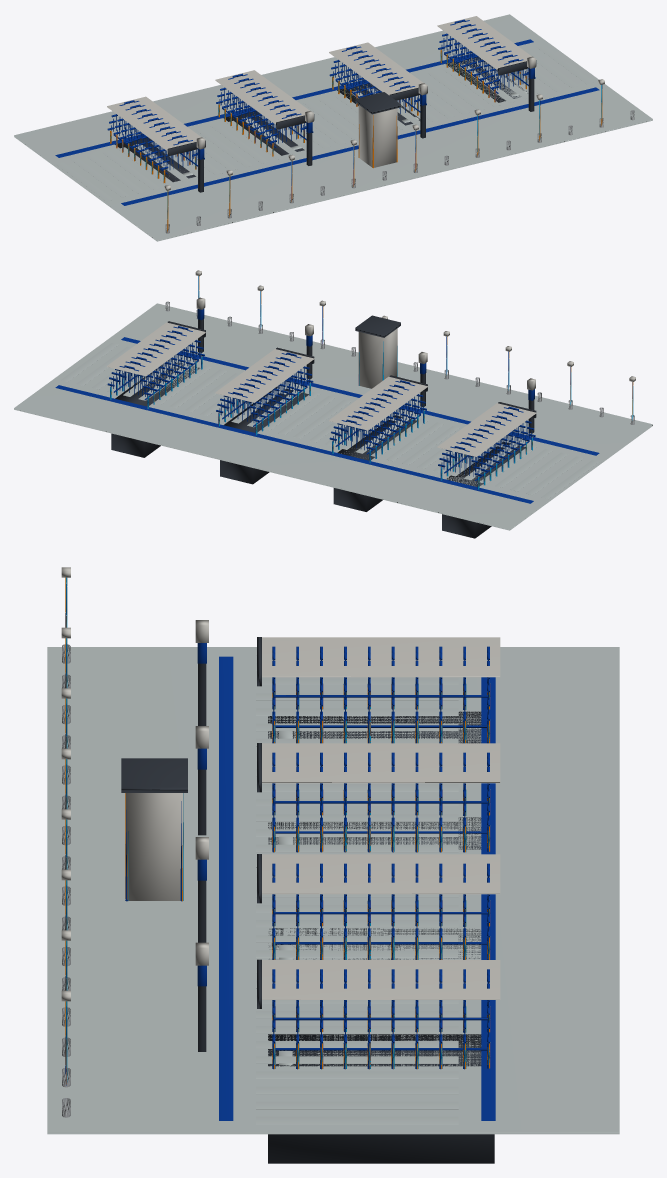
3 renders of one model, top to bottom at view 1: azimuth 30°, elevation 25°; view 2: azimuth 150°, elevation 25°; view 3: azimuth 270°, elevation 25°, orthographic. The views are drawn at different scales.
Visible parts, largest first — view 1: subway_sidewalk_pavement, subway_entrance_canopies, subway_stairs_and_escalator, subway_elevator_tower, subway_pole_signs; view 2: subway_sidewalk_pavement, subway_entrance_canopies, subway_stairs_and_escalator, subway_elevator_tower, subway_pole_signs; view 3: subway_sidewalk_pavement, subway_entrance_canopies, subway_stairs_and_escalator, subway_elevator_tower, subway_pole_signs.
Part boxes in pixels (box(x1,y1,x2,y2)): subway_sidewalk_pavement: box(14, 14, 652, 241); subway_entrance_canopies: box(107, 16, 536, 182); subway_stairs_and_escalator: box(113, 54, 528, 182); subway_elevator_tower: box(355, 92, 400, 168); subway_pole_signs: box(196, 56, 535, 192); subway_sidewalk_pavement: box(14, 270, 652, 530); subway_entrance_canopies: box(107, 321, 536, 489); subway_stairs_and_escalator: box(111, 360, 529, 538); subway_elevator_tower: box(355, 315, 400, 388); subway_pole_signs: box(196, 297, 535, 433); subway_sidewalk_pavement: box(47, 567, 619, 1134); subway_entrance_canopies: box(257, 637, 500, 1069); subway_stairs_and_escalator: box(268, 695, 494, 1163); subway_elevator_tower: box(121, 758, 187, 901); subway_pole_signs: box(195, 620, 208, 1051).
Bounding box in the file's own units: 48 × 9.9 × 24.
Materials: 5 (5 with a texture image).
